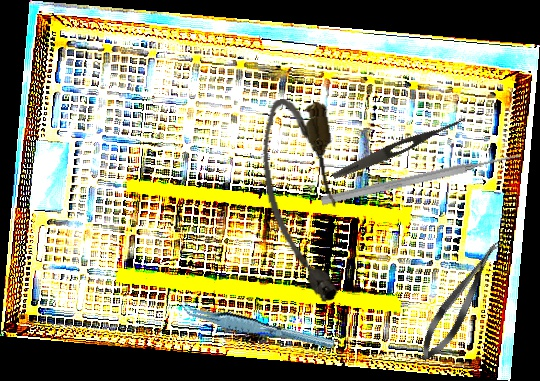Cannula: (255, 93, 351, 308)
Dressing Forceps: (330, 112, 468, 183)
Micro Scissor: (411, 234, 510, 368)
Pusher: (320, 149, 522, 208)
Tissue Forceps: (176, 285, 336, 367)
